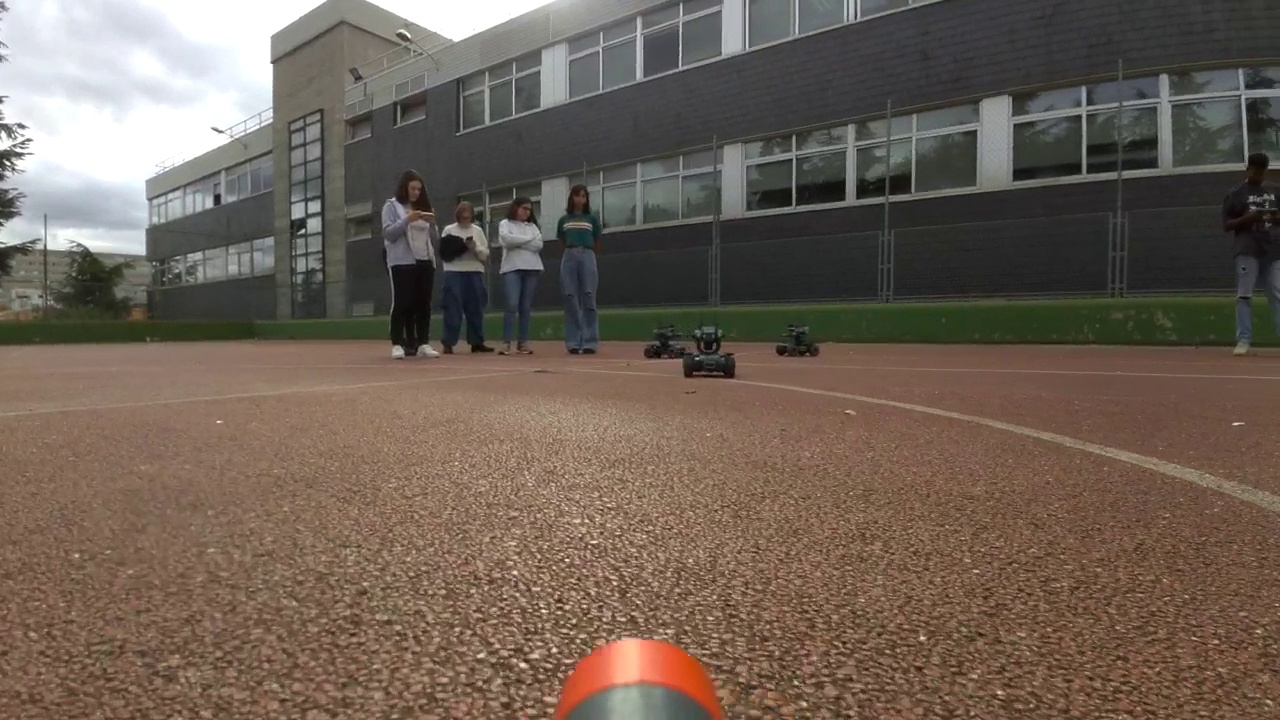robot: (685, 324, 735, 378), (643, 324, 688, 360), (775, 327, 822, 358)
